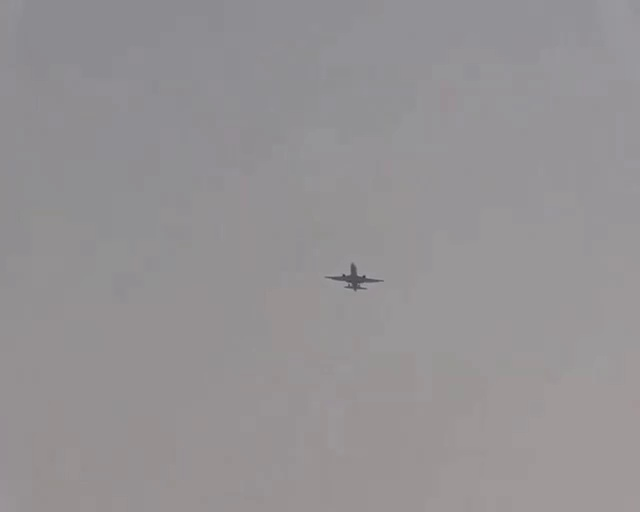AIRPLANE: (324, 261, 385, 291)
